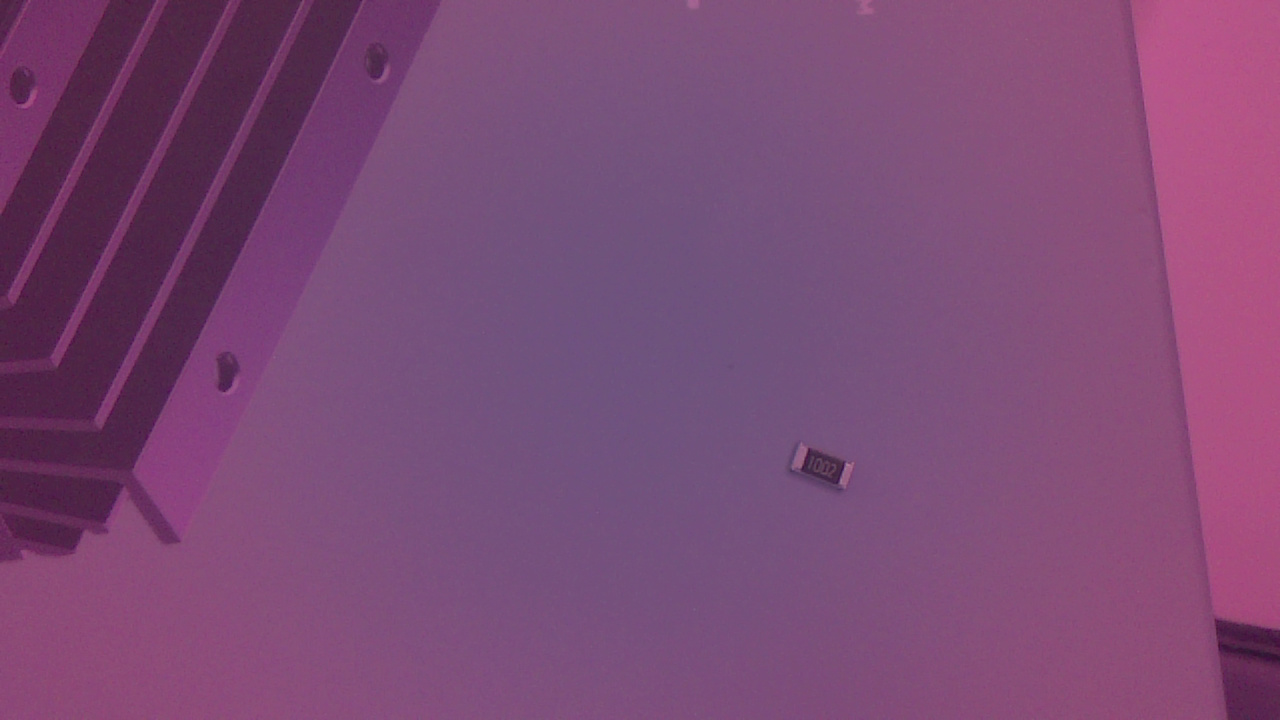Resistor: (792, 442, 865, 508)
